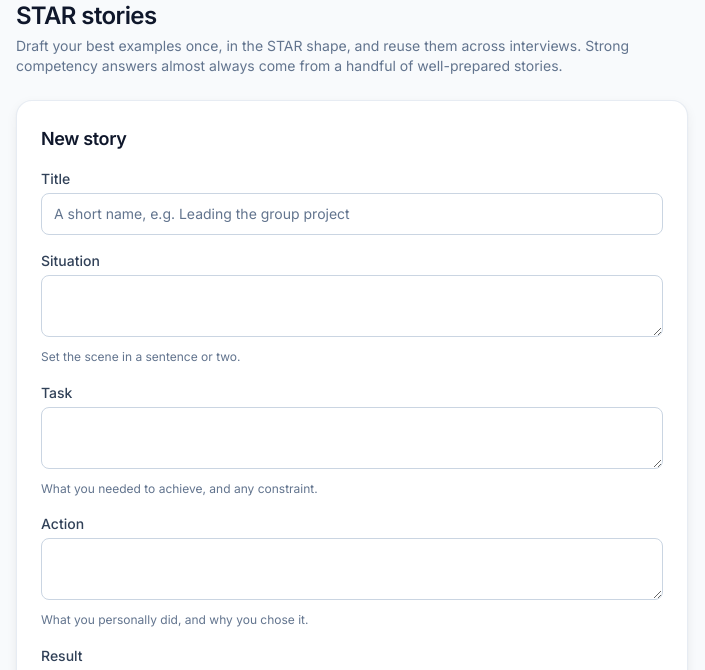
Stars › creates a new STAR story
This screenshot has width=705, height=670.
In the field labelled "Title": [352, 214] box left=41, top=193, right=663, bottom=235, type "Leading the group project"
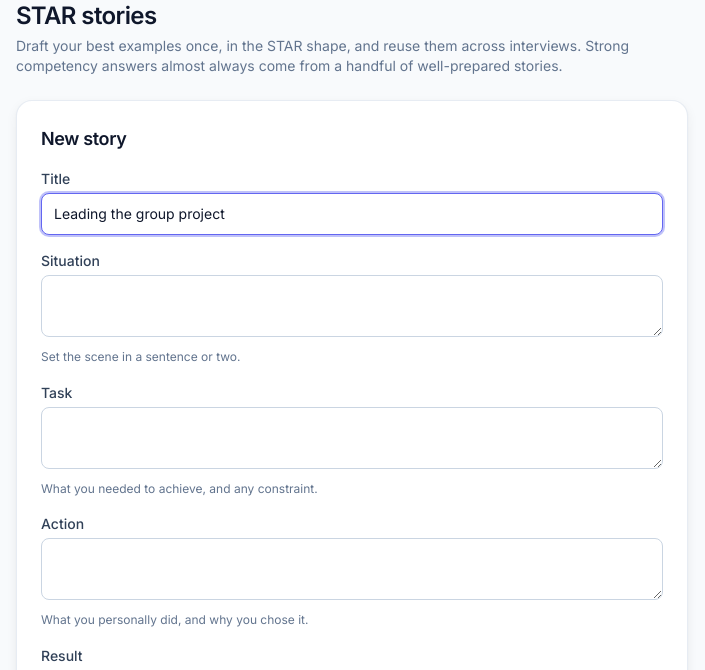
In the text box labelled "Action": [352, 569] box left=41, top=538, right=663, bottom=600, type "I coordinated the plan"
(page scrolled)
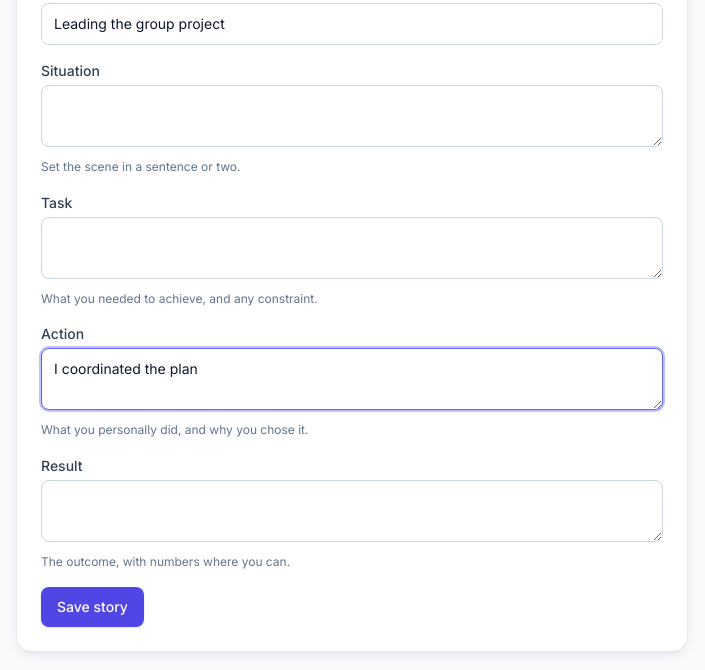
Click the button "Save story": [92, 607] box left=41, top=587, right=144, bottom=627
(page scrolled)
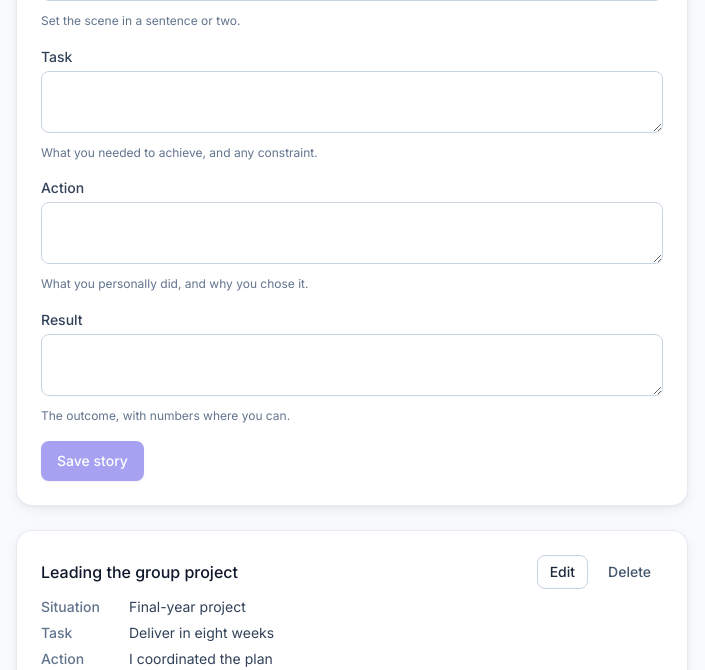
expect the text "Leading the group project" is shown: met, box left=41, top=560, right=238, bottom=584
